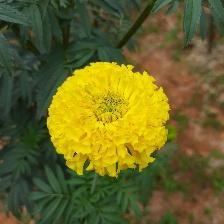marigold: (45, 59, 175, 180)
